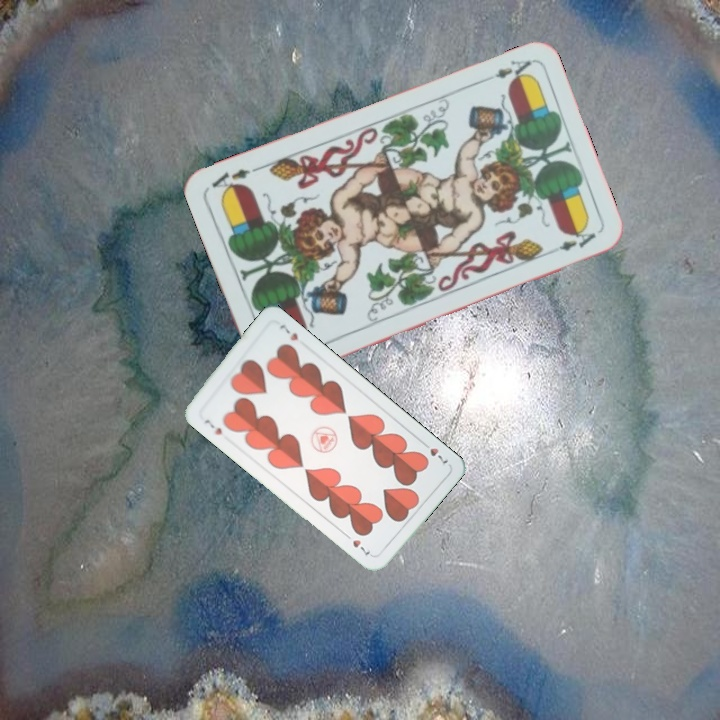EA: (478, 55, 534, 86)
H7: (417, 437, 451, 466), (200, 414, 225, 438)
